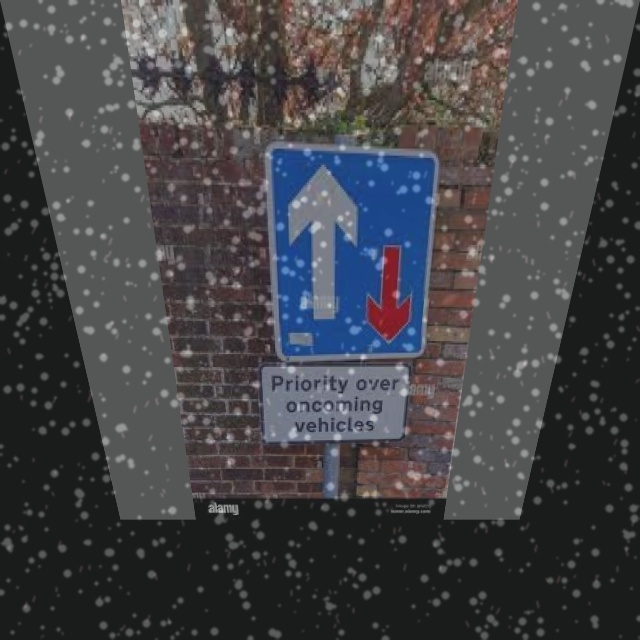Priority_for_Oncoming_Traffic: (273, 150, 441, 354)
